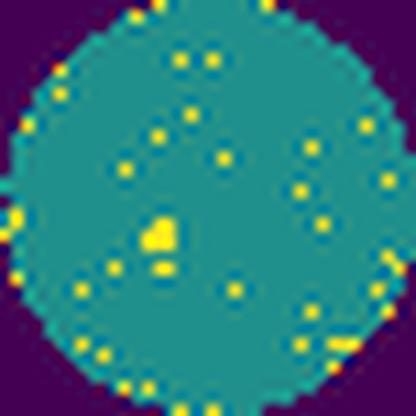Edge-Loc: (137, 212, 178, 252)
